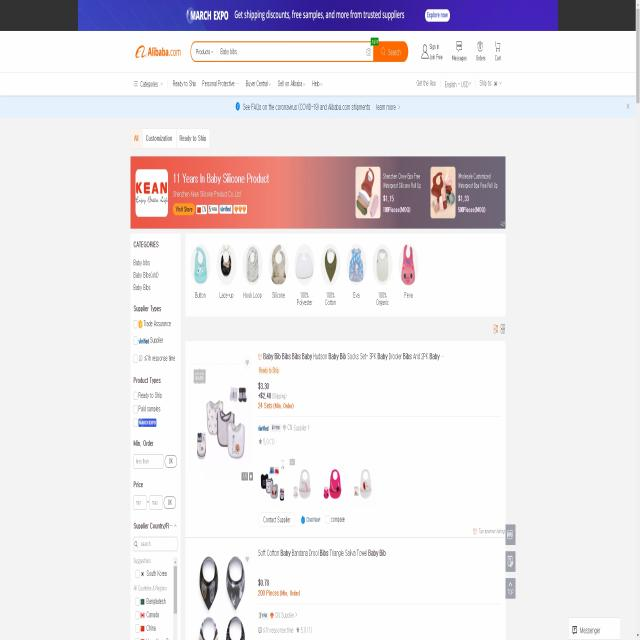menu-panel: (129, 232, 181, 639)
tab-bar: (130, 129, 210, 148)
